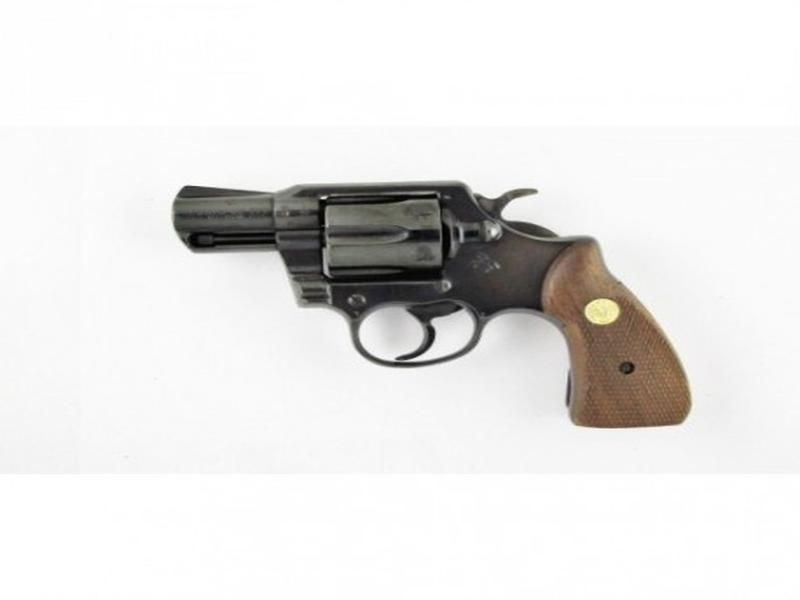Revolver: (163, 101, 711, 447)
